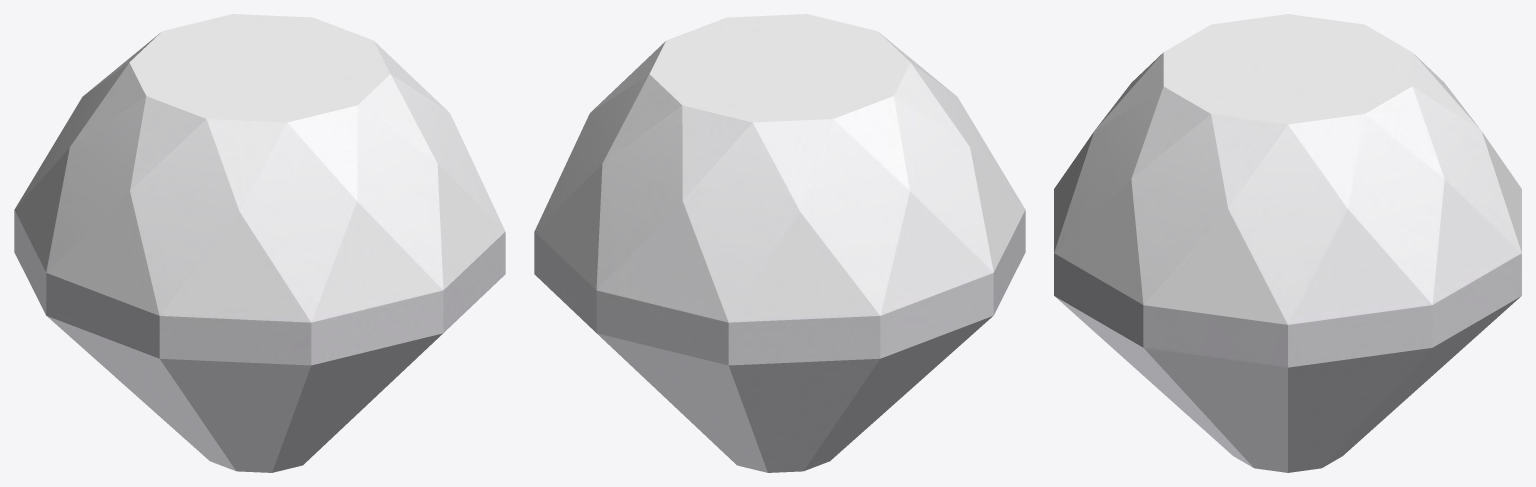
The model's file is pl_elmas.glb.
3 renders of one model, left to right at view 1: azimuth 30°, elevation 25°; view 2: azimuth 150°, elevation 25°; view 3: azimuth 270°, elevation 25°, orthographic.
Parts seen in each view (by area): view 1: pl_elmas; view 2: pl_elmas; view 3: pl_elmas.
Part boxes in pixels (box(x1,y1,x2,y2)): pl_elmas: box(14, 14, 505, 472); pl_elmas: box(534, 14, 1025, 472); pl_elmas: box(1054, 14, 1521, 472).
Bounding box in the file's own units: 1.46 × 1.24 × 1.39.
Materials: 1 (1 with a texture image).
